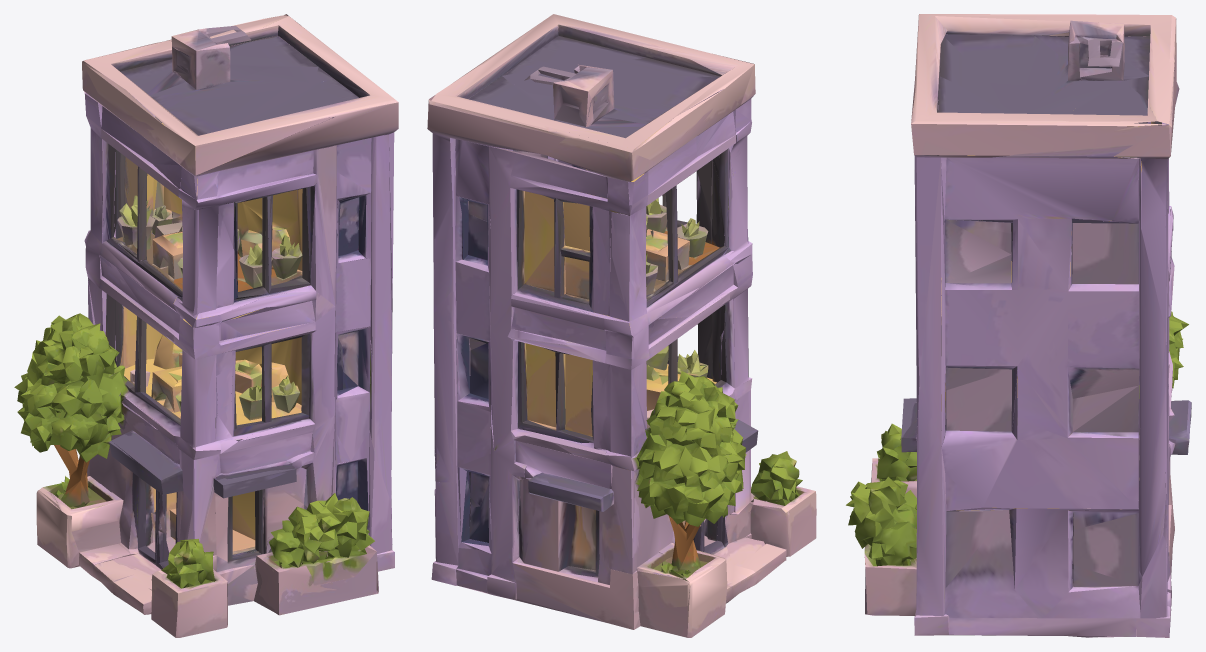
File: m11_02_office.glb
The picture shows the model from 3 angles, left to right: view 1: azimuth 30°, elevation 25°; view 2: azimuth 150°, elevation 25°; view 3: azimuth 270°, elevation 25°; orthographic projection. The views are drawn at different scales.
Parts seen in each view (by area): view 1: office; view 2: office; view 3: office.
Boxes of the visible parts, x1,y1,x2,y2 form: office: [14, 14, 398, 637]; office: [427, 14, 816, 637]; office: [846, 14, 1191, 637].
Bounding box in the file's own units: 8.49 × 14.08 × 8.06.
Materials: 2 (2 with a texture image).
